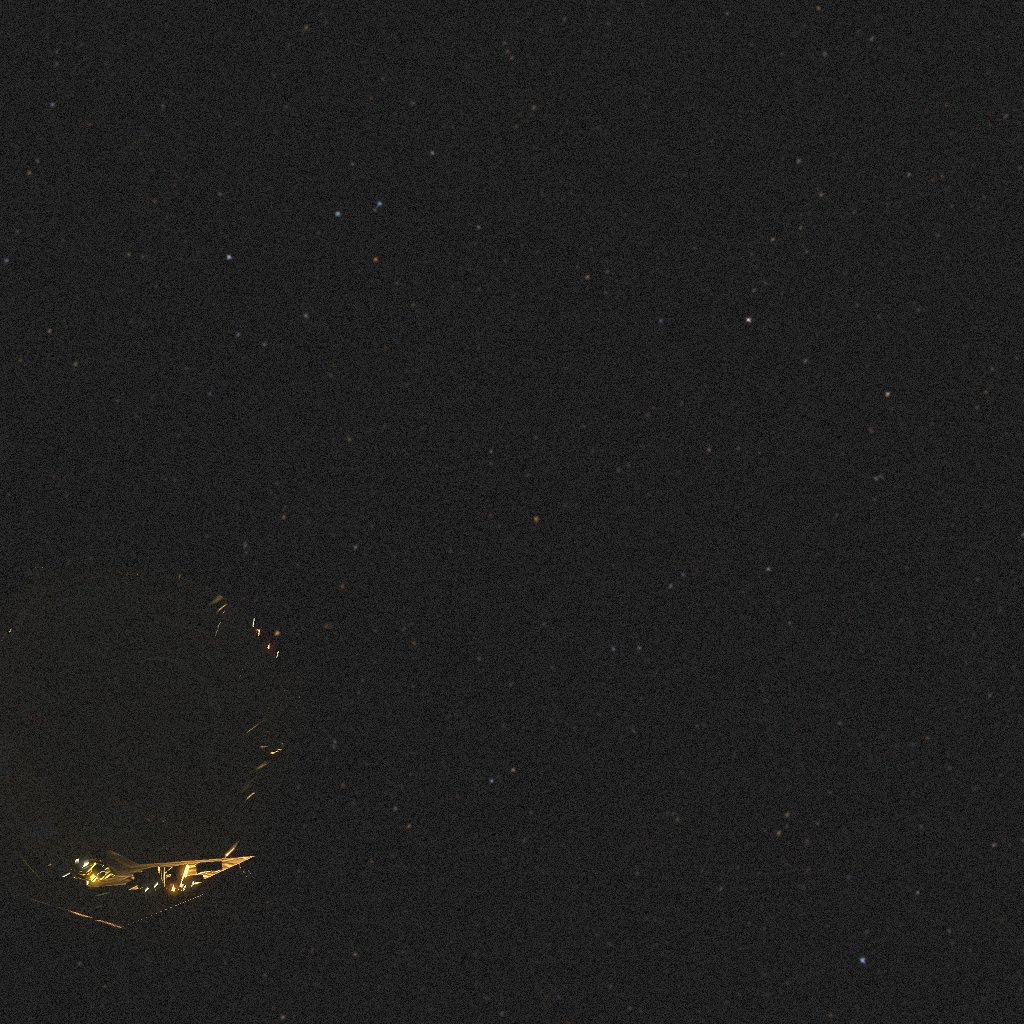lisa_pathfinder: (0, 566, 317, 928)
